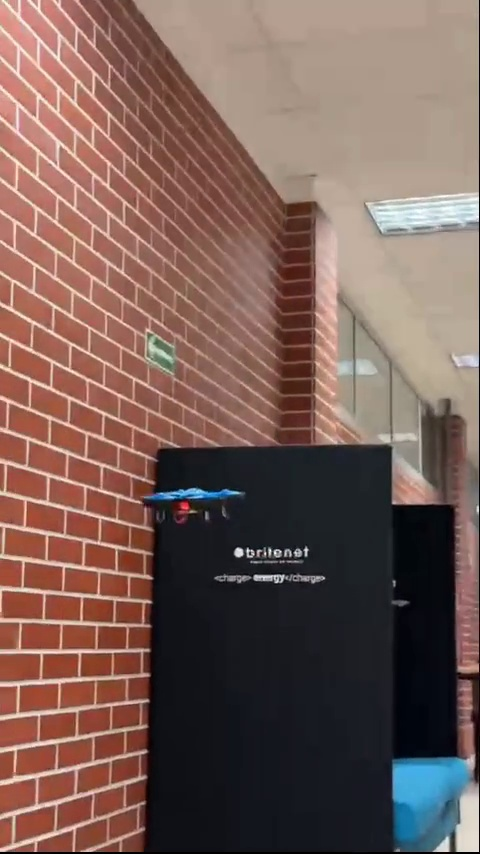drone: (138, 486, 246, 525)
